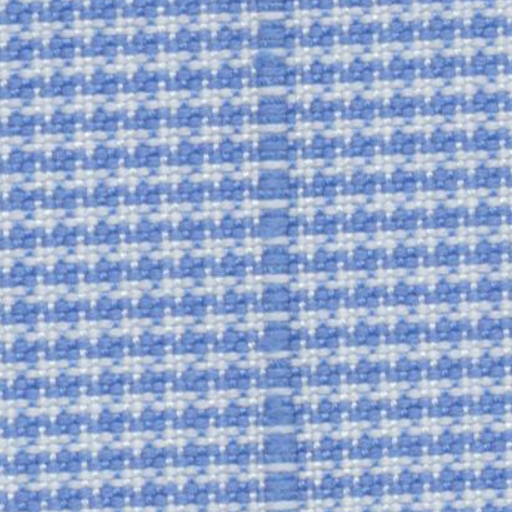TuoSha: (224, 10, 344, 498)
